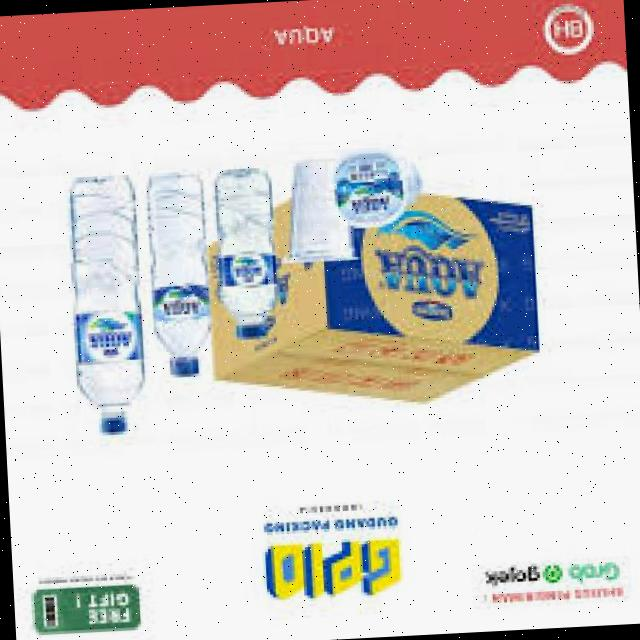bottle: (201, 144, 293, 350)
cap: (96, 410, 131, 440), (232, 321, 270, 344), (164, 357, 198, 380)
label: (78, 314, 145, 361), (220, 250, 280, 290), (151, 280, 210, 314)
